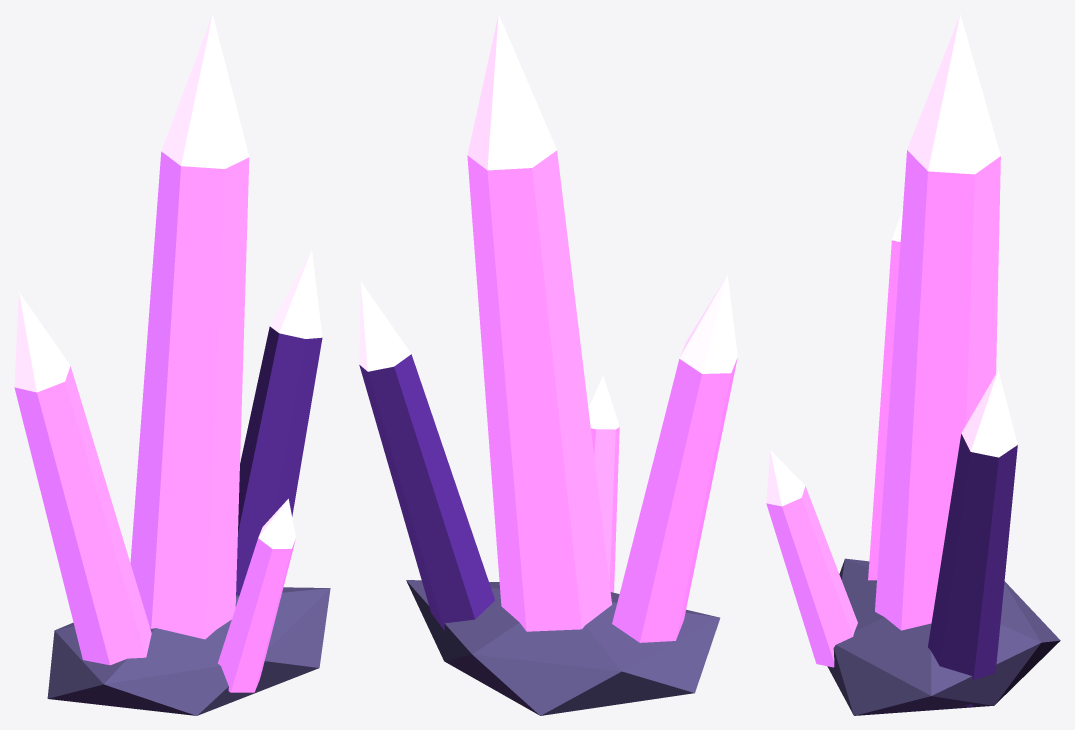
The model's file is Energy_Crystal_Spire.fbx.
3 renders of one model, left to right at view 1: azimuth 30°, elevation 25°; view 2: azimuth 150°, elevation 25°; view 3: azimuth 270°, elevation 25°, orthographic. The views are drawn at different scales.
Parts seen in each view (by area): view 1: Energy_Crystal_Spire; view 2: Energy_Crystal_Spire; view 3: Energy_Crystal_Spire.
Boxes of the visible parts, left/top/right/bottom form: Energy_Crystal_Spire: left=14, top=14, right=330, bottom=715; Energy_Crystal_Spire: left=359, top=14, right=737, bottom=715; Energy_Crystal_Spire: left=766, top=14, right=1060, bottom=715.
Bounding box in the file's own units: 4.51 × 8.2 × 3.25.
Materials: 1 (1 with a texture image).
